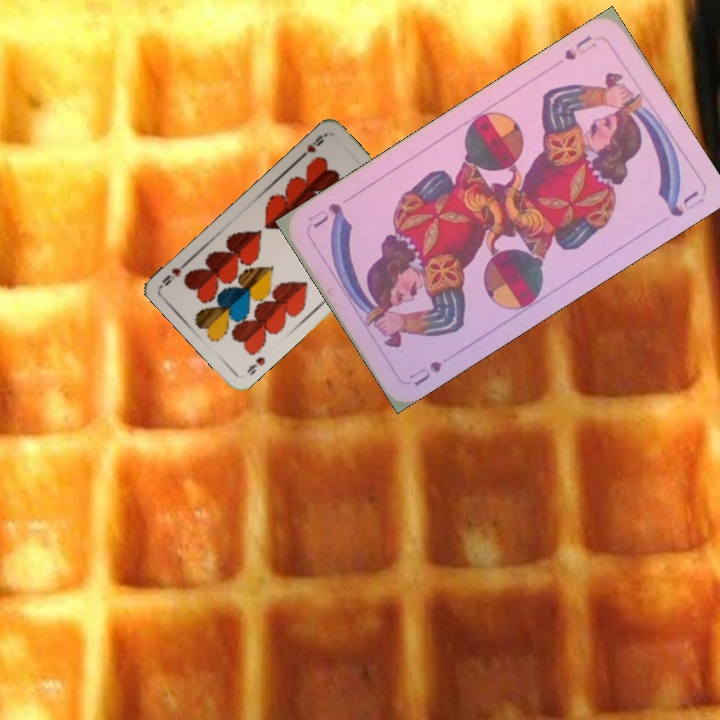H9: (296, 130, 329, 162), (243, 353, 268, 378)
SU: (405, 356, 445, 389), (560, 31, 596, 63)
